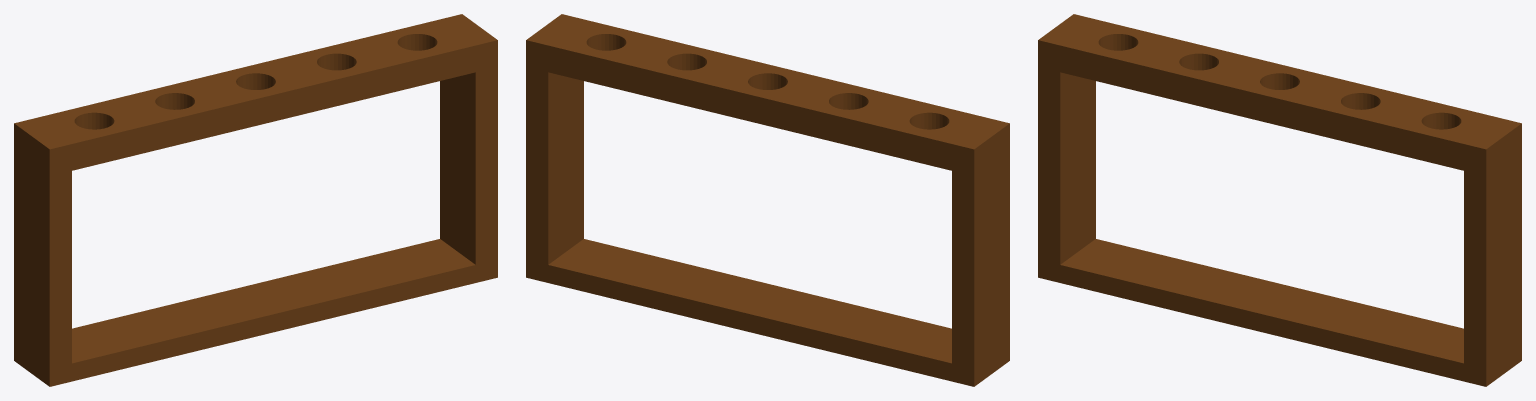
The model's file is VialPlacer.fbx.
3 views of the same model, side by side, from view 1: azimuth 30°, elevation 25°; view 2: azimuth 150°, elevation 25°; view 3: azimuth 330°, elevation 25° (orthographic).
Parts seen in each view (by area): view 1: VialPlacet; view 2: VialPlacet; view 3: VialPlacet.
Boxes of the visible parts, <box> form: VialPlacet: <box>14,14,497,386</box>; VialPlacet: <box>526,14,1009,386</box>; VialPlacet: <box>1038,14,1521,386</box>.
Bounding box in the file's own units: 48.41 × 24.52 × 6.68.
